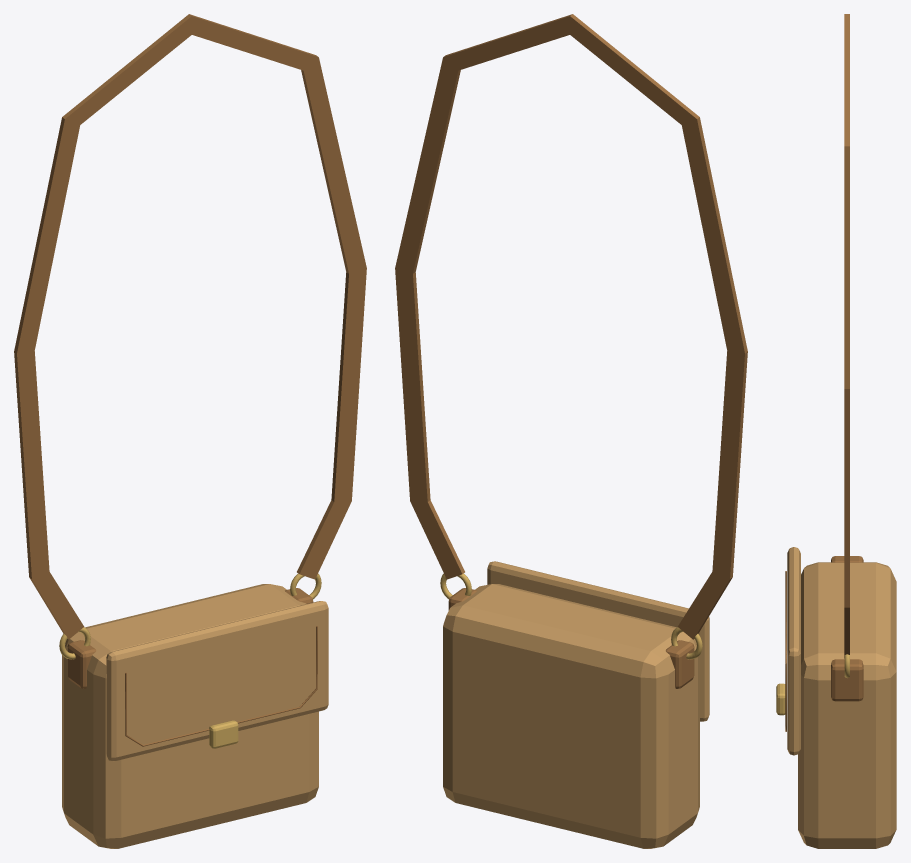
The model's file is purse_crossbody.glb.
The picture shows the model from 3 angles, left to right: view 1: azimuth 30°, elevation 25°; view 2: azimuth 150°, elevation 25°; view 3: azimuth 270°, elevation 25°; orthographic projection.
Parts seen in each view (by area): view 1: Crossbody_Closed_Body, Crossbody_Long_Connected_Strap, Crossbody_Foldover_Flap, Crossbody_Side_Anchor, Crossbody_Metal_Fastener, Crossbody_Flap_Stitching; view 2: Crossbody_Closed_Body, Crossbody_Long_Connected_Strap, Crossbody_Foldover_Flap, Crossbody_Side_Anchor; view 3: Crossbody_Closed_Body, Crossbody_Long_Connected_Strap, Crossbody_Foldover_Flap, Crossbody_Side_Anchor.001, Crossbody_Flap_Stitching, Crossbody_Metal_Fastener.
Part boxes in pixels (x1,y1,x2,y2): Crossbody_Closed_Body: (62,584,318,848); Crossbody_Long_Connected_Strap: (14,14,366,639); Crossbody_Foldover_Flap: (106,601,328,761); Crossbody_Side_Anchor: (67,640,96,688); Crossbody_Metal_Fastener: (209,720,238,748); Crossbody_Flap_Stitching: (125,626,317,746); Crossbody_Closed_Body: (443,584,699,848); Crossbody_Long_Connected_Strap: (395,14,747,639); Crossbody_Foldover_Flap: (487,561,709,721); Crossbody_Side_Anchor: (665,640,694,688); Crossbody_Closed_Body: (798,562,896,848); Crossbody_Long_Connected_Strap: (844,14,849,658); Crossbody_Foldover_Flap: (787,547,800,755); Crossbody_Side_Anchor.001: (831,659,863,701); Crossbody_Flap_Stitching: (785,571,786,731); Crossbody_Metal_Fastener: (776,683,785,715).
Bounding box in the file's own units: 0.3519 × 0.769 × 0.106.
